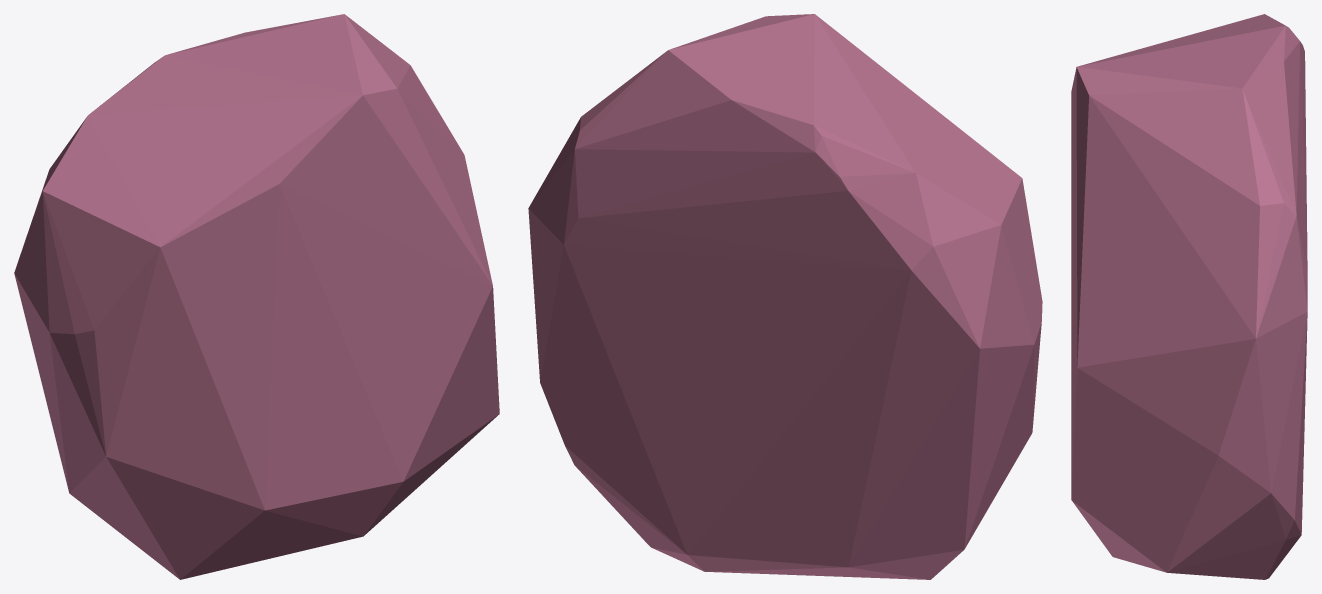
File: food_prepared_donut_j01.glb
The picture shows the model from 3 angles, left to right: view 1: azimuth 30°, elevation 25°; view 2: azimuth 150°, elevation 25°; view 3: azimuth 270°, elevation 25°; orthographic projection. The views are drawn at different scales.
Parts seen in each view (by area): view 1: geometry_0; view 2: geometry_0; view 3: geometry_0.
Boxes of the visible parts, x1=… form: geometry_0: x1=14, y1=14, x2=499, y2=579; geometry_0: x1=528, y1=14, x2=1042, y2=579; geometry_0: x1=1071, y1=14, x2=1307, y2=579.
Bounding box in the file's own units: 0.4363 × 0.4437 × 0.1868.
